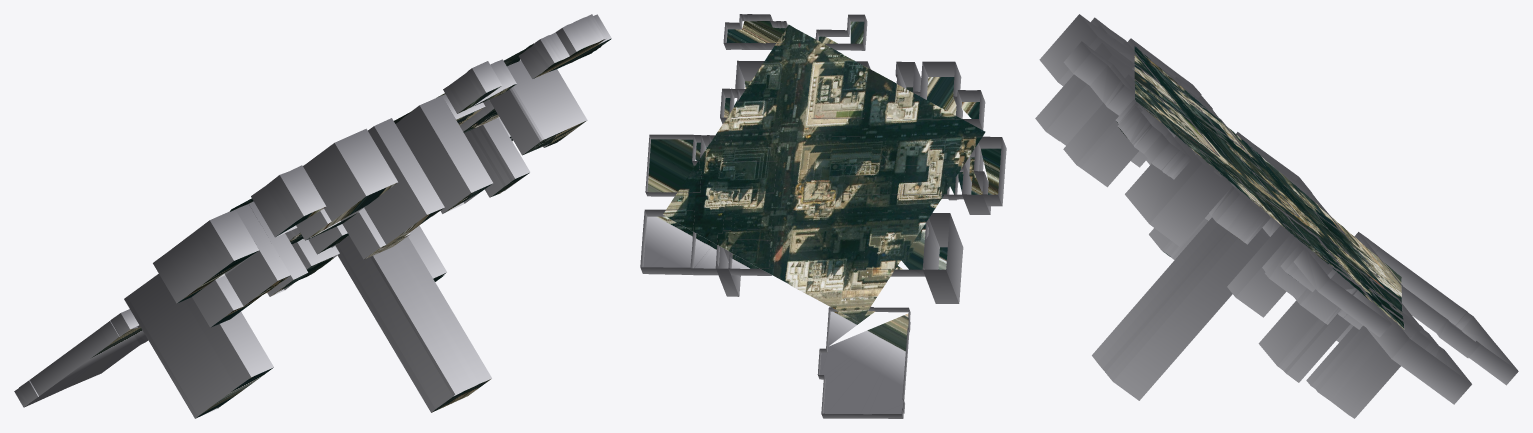
The picture shows the model from 3 angles, left to right: view 1: azimuth 30°, elevation 25°; view 2: azimuth 150°, elevation 25°; view 3: azimuth 270°, elevation 25°; orthographic projection. The views are drawn at different scales.
Size of the model in its own units: 346 by 300 by 314.
1 material, 1 textured.
